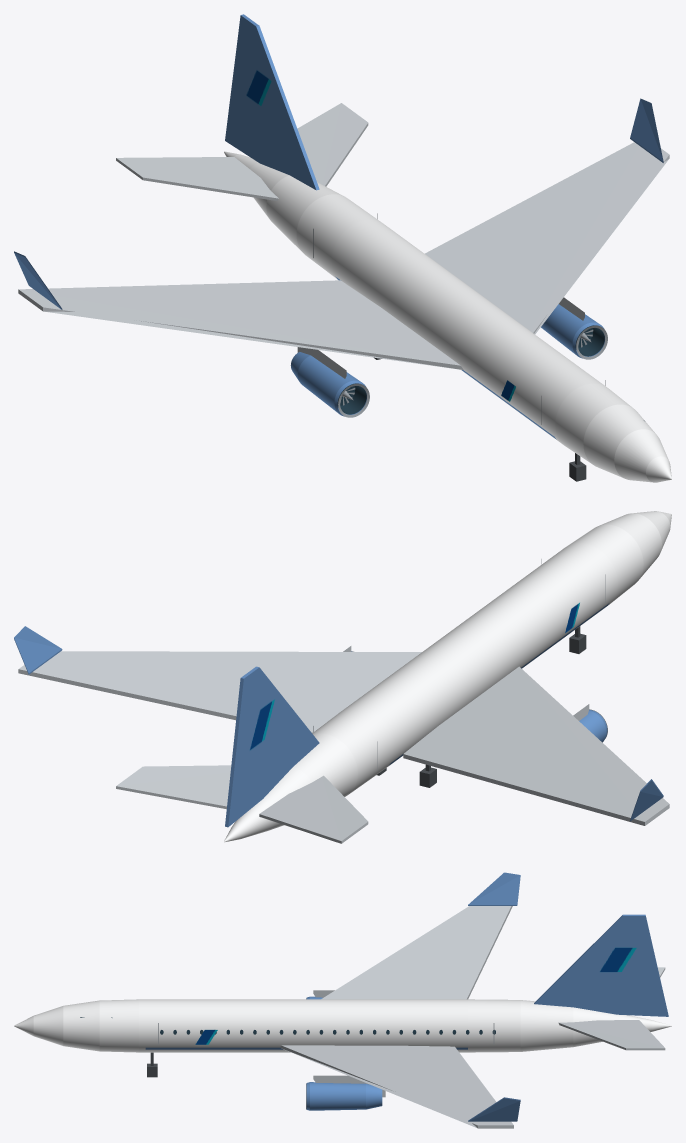
File: b757-ANA-v3.gltf
The picture shows the model from 3 angles, top to bottom: view 1: azimuth 30°, elevation 25°; view 2: azimuth 150°, elevation 25°; view 3: azimuth 270°, elevation 25°; orthographic projection. The views are drawn at different scales.
Parts seen in each view (by area): view 1: object 1; view 2: object 1, Gear; view 3: object 1.
Part boxes in pixels (x1,y1,x2,y2): object 1: (14, 14, 671, 482); object 1: (14, 511, 671, 843); Gear: (377, 626, 586, 787); object 1: (14, 872, 671, 1128).
Size of the model in its own units: 38 by 12.62 by 47.
Materials: 8 (1 with a texture image).
